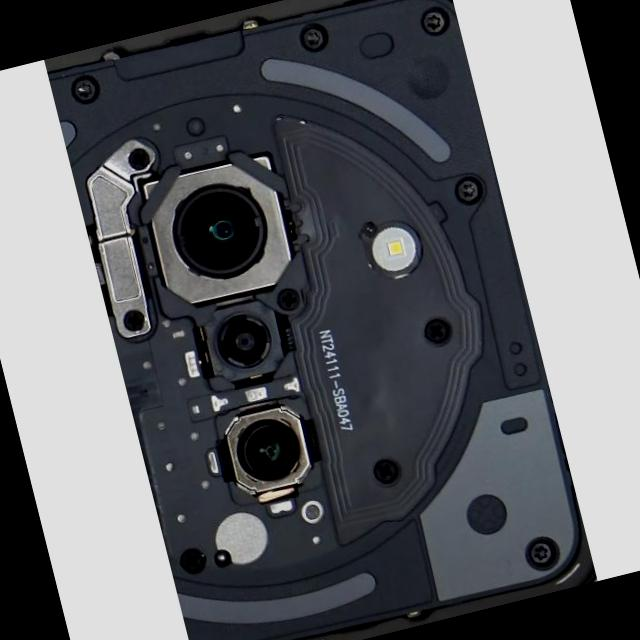Torx: (452, 174, 486, 206), (68, 72, 101, 104), (298, 20, 330, 52), (528, 540, 553, 564), (424, 12, 442, 30)
